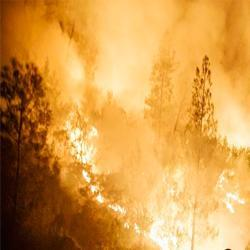fire: (155, 206, 184, 249), (73, 129, 99, 161)
